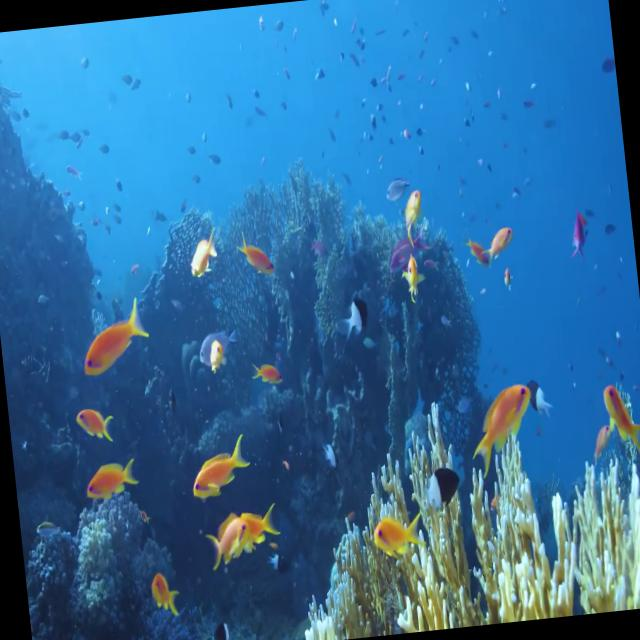fish: (464, 381, 536, 465), (78, 302, 148, 376), (188, 432, 252, 498), (85, 448, 140, 500), (411, 465, 462, 520), (366, 516, 426, 562), (206, 513, 252, 565), (194, 319, 241, 366), (236, 226, 273, 282), (72, 396, 112, 445), (478, 222, 516, 267), (398, 186, 426, 247), (150, 568, 182, 620), (190, 228, 222, 278), (339, 294, 369, 342), (398, 252, 428, 298), (249, 354, 281, 388)
